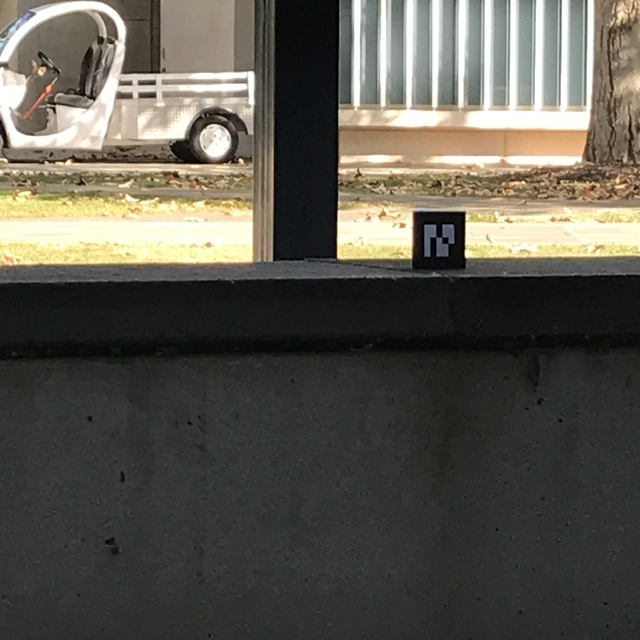ARTag: (412, 210, 467, 270)
